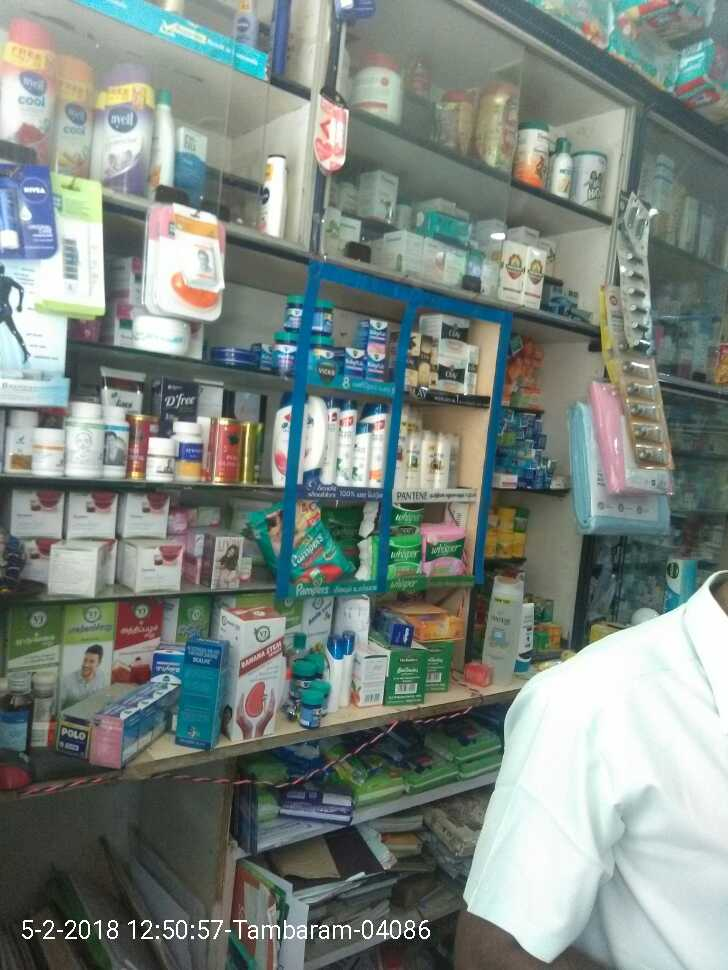vicks: (218, 280, 395, 389)
